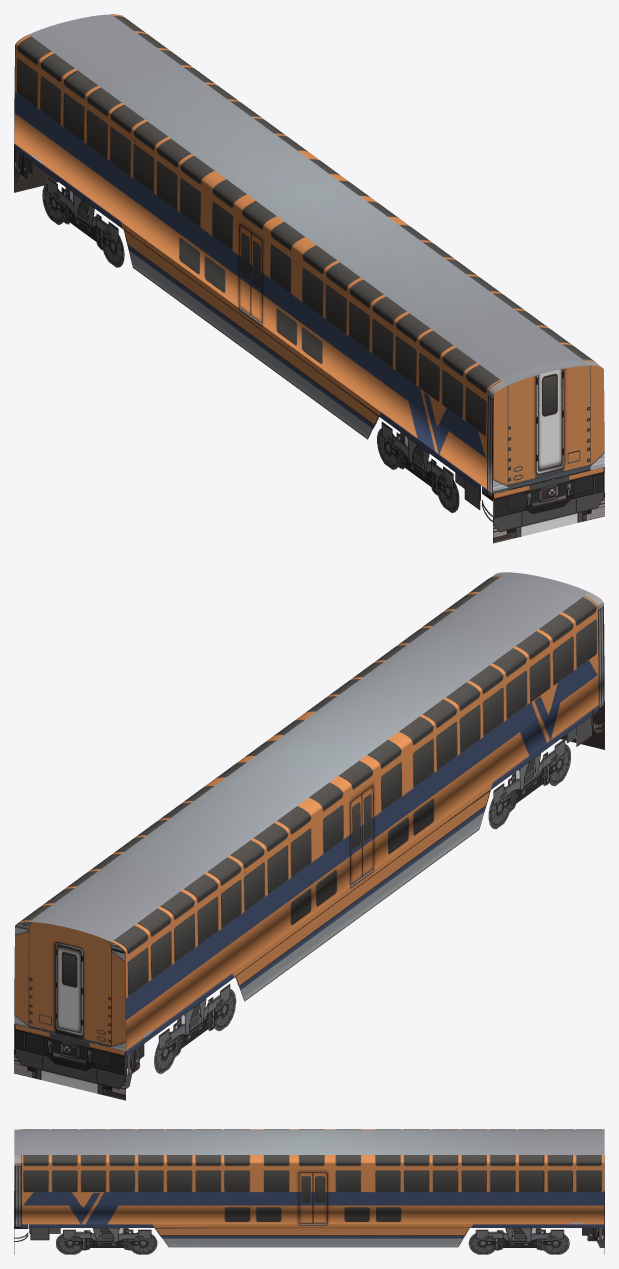
The model's file is car2.glb.
The picture shows the model from 3 angles, top to bottom: view 1: azimuth 30°, elevation 25°; view 2: azimuth 150°, elevation 25°; view 3: azimuth 270°, elevation 25°; orthographic projection. The views are drawn at different scales.
Visible parts, largest first — view 1: kintetsu-30000-car2; view 2: kintetsu-30000-car2; view 3: kintetsu-30000-car2.
Part boxes in pixels (box(x1,y1,x2,y2)): kintetsu-30000-car2: box(14, 14, 604, 543); kintetsu-30000-car2: box(14, 572, 604, 1100); kintetsu-30000-car2: box(14, 1129, 604, 1254).
Bounding box in the file's own units: 2.8 × 3.8 × 20.83.
Materials: 8 (7 with a texture image).
